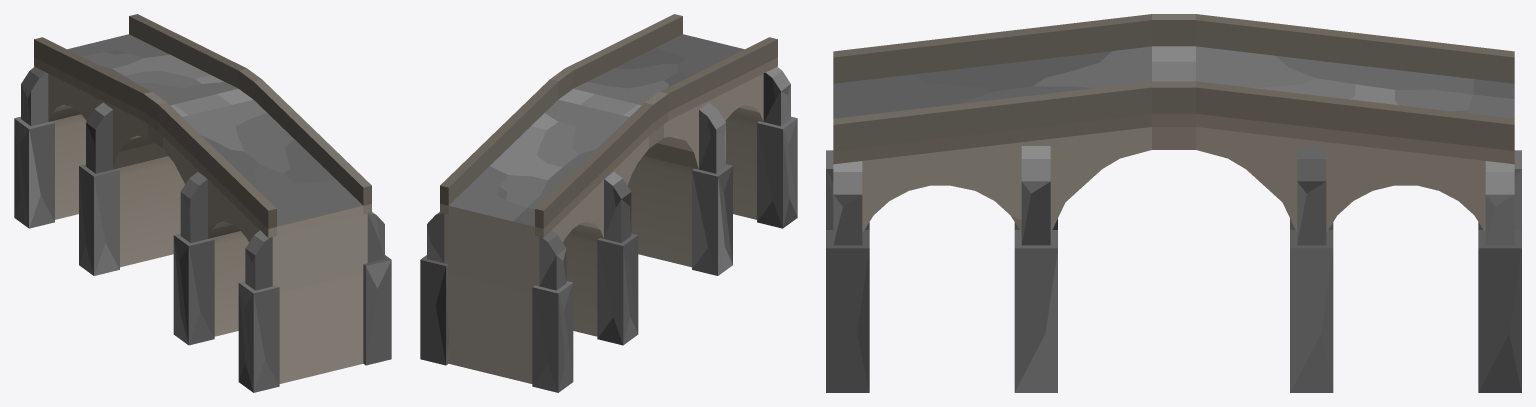
File: Walkway-Bridge_A.fbx
The picture shows the model from 3 angles, left to right: view 1: azimuth 30°, elevation 25°; view 2: azimuth 150°, elevation 25°; view 3: azimuth 270°, elevation 25°; orthographic projection. The views are drawn at different scales.
Visible parts, largest first — view 1: Walkway-Bridge_A; view 2: Walkway-Bridge_A; view 3: Walkway-Bridge_A.
Part boxes in pixels (x1,y1,x2,y2): Walkway-Bridge_A: (14,14,391,392); Walkway-Bridge_A: (420,14,797,392); Walkway-Bridge_A: (826,14,1521,392).
Size of the model in its own units: 800 by 1116 by 2400.
